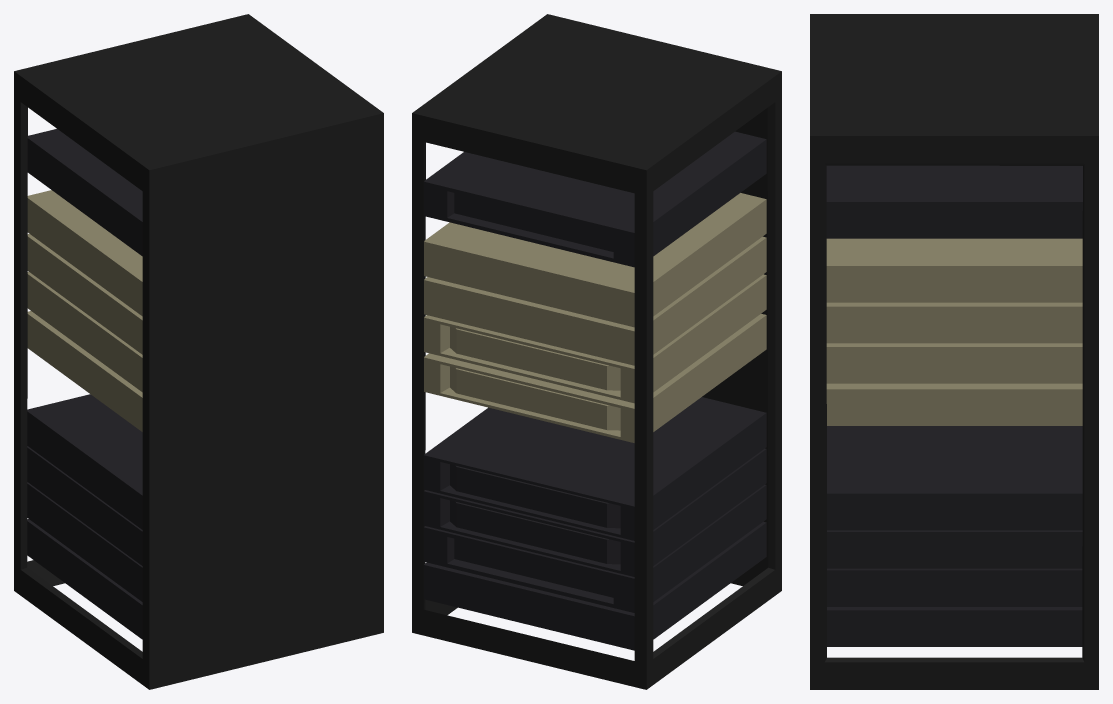
File: serverRack1.fbx
3 renders of one model, left to right at view 1: azimuth 30°, elevation 25°; view 2: azimuth 150°, elevation 25°; view 3: azimuth 270°, elevation 25°, orthographic. The views are drawn at different scales.
Parts seen in each view (by area): view 1: Cube, Cube.003, Cube.009, Cube.008, Cube.001, Cube.007, Cube.002, Cube.006, Cube.004, Cube.005; view 2: Cube, Cube.003, Cube.009, Cube.008, Cube.001, Cube.007, Cube.002, Cube.006, Cube.004, Cube.005; view 3: Cube, Cube.003, Cube.009, Cube.008, Cube.001, Cube.007, Cube.002, Cube.006, Cube.004, Cube.005.
Part boxes in pixels (bbox=[...]): Cube: bbox=[14, 14, 383, 689]; Cube.003: bbox=[27, 394, 142, 529]; Cube.009: bbox=[27, 129, 142, 256]; Cube.008: bbox=[27, 190, 142, 316]; Cube.001: bbox=[27, 311, 142, 431]; Cube.007: bbox=[27, 234, 142, 354]; Cube.002: bbox=[27, 271, 142, 392]; Cube.006: bbox=[27, 519, 142, 639]; Cube.004: bbox=[27, 446, 142, 565]; Cube.005: bbox=[27, 482, 142, 601]; Cube: bbox=[412, 14, 781, 689]; Cube.003: bbox=[424, 397, 766, 540]; Cube.009: bbox=[424, 131, 766, 267]; Cube.008: bbox=[424, 193, 766, 327]; Cube.001: bbox=[424, 313, 766, 442]; Cube.007: bbox=[424, 236, 766, 365]; Cube.002: bbox=[424, 274, 766, 403]; Cube.006: bbox=[424, 521, 766, 650]; Cube.004: bbox=[424, 448, 766, 576]; Cube.005: bbox=[424, 484, 766, 612]; Cube: bbox=[810, 14, 1098, 689]; Cube.003: bbox=[827, 426, 1082, 530]; Cube.009: bbox=[826, 165, 1082, 238]; Cube.008: bbox=[826, 238, 1082, 302]; Cube.001: bbox=[826, 383, 1082, 425]; Cube.007: bbox=[826, 302, 1082, 343]; Cube.002: bbox=[826, 343, 1082, 383]; Cube.006: bbox=[827, 607, 1082, 646]; Cube.004: bbox=[827, 530, 1082, 568]; Cube.005: bbox=[827, 568, 1082, 606].
Bounding box in the file's own units: 200 × 424 × 200.
